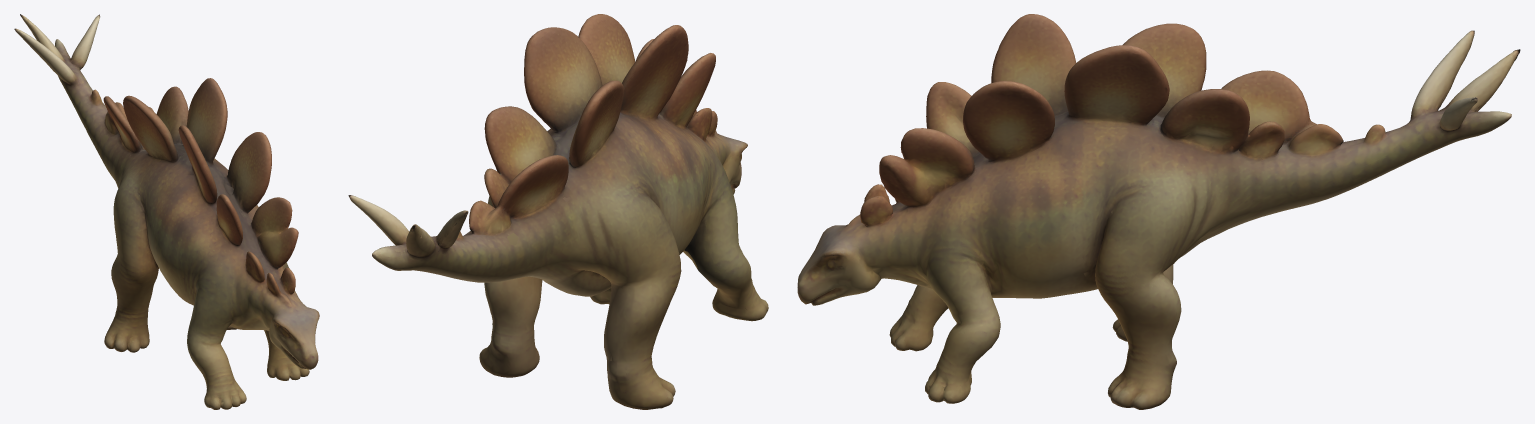
3 views of the same model, side by side, from view 1: azimuth 30°, elevation 25°; view 2: azimuth 150°, elevation 25°; view 3: azimuth 270°, elevation 25° (orthographic). The views are drawn at different scales.
Visible parts, largest first — view 1: world; view 2: world; view 3: world.
Part boxes in pixels (x1,y1,x2,y2): world: (14, 14, 319, 409); world: (348, 14, 768, 409); world: (797, 14, 1520, 409).
Bounding box in the file's own units: 2.61 × 4.43 × 8.5.
1 material, 1 textured.
